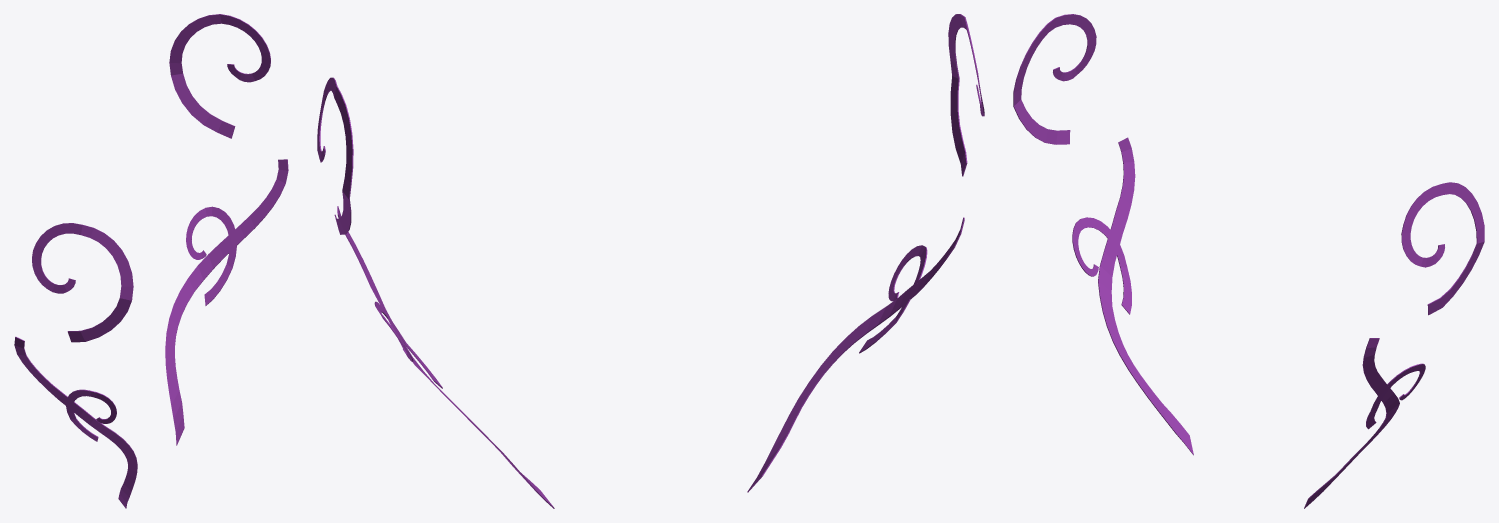
3 views of the same model, side by side, from view 1: azimuth 30°, elevation 25°; view 2: azimuth 150°, elevation 25°; view 3: azimuth 270°, elevation 25° (orthographic). The views are drawn at different scales.
Parts seen in each view (by area): view 1: 深紫卷纹纸贴.001; view 2: 深紫卷纹纸贴.001; view 3: 深紫卷纹纸贴.001.
Boxes of the visible parts, left/top/right/bottom form: 深紫卷纹纸贴.001: left=14, top=14, right=288, bottom=508; 深紫卷纹纸贴.001: left=317, top=14, right=984, bottom=508; 深紫卷纹纸贴.001: left=1013, top=14, right=1484, bottom=508.
Bounding box in the file's own units: 0.914 × 0.8091 × 0.9066.
